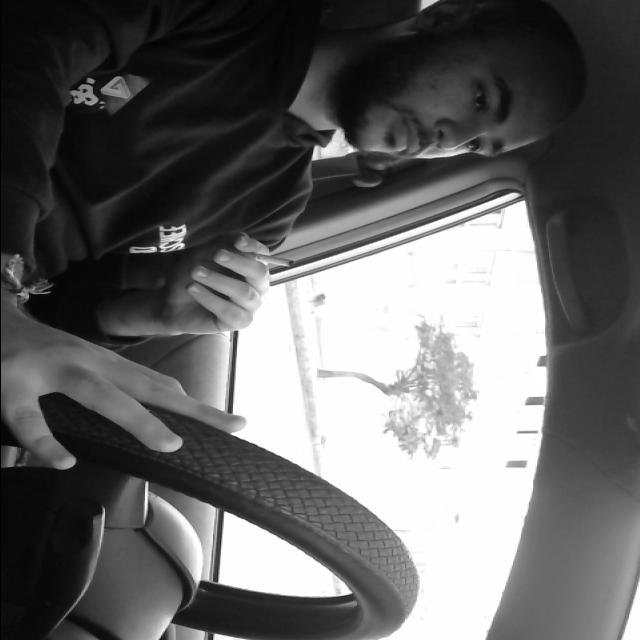smoking: (228, 248, 310, 270)
